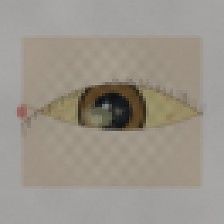corneal_ulcer: (80, 101, 120, 133)
